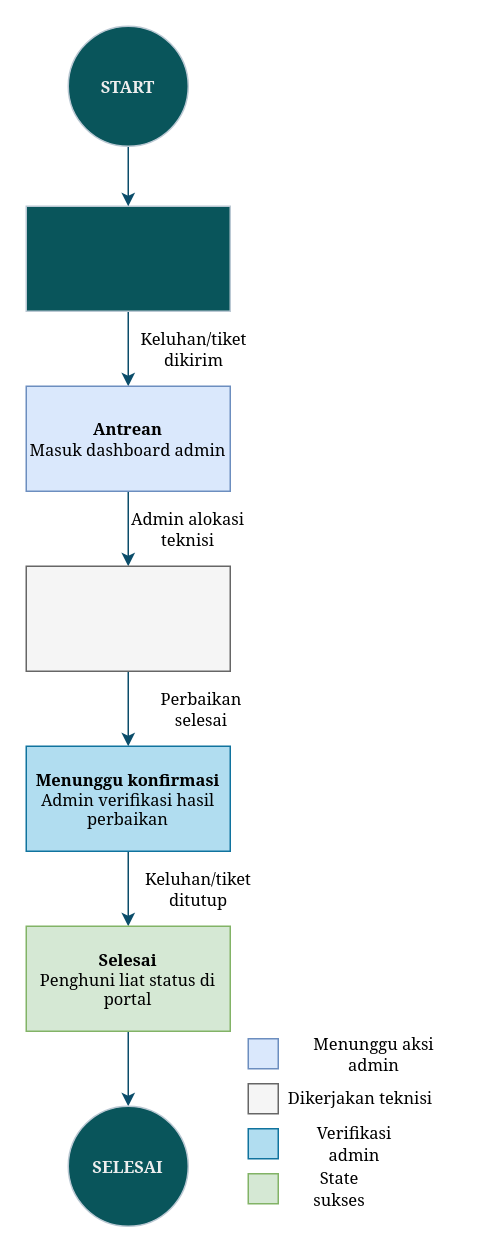
Some shapes in this 489 by 1253 pixel diagram are drawn without their labels. The centre of each missing label's shape, as x and y in pixels:
"Diproses Teknisi mengerjakan perbaikan" belongs at pixel 127 618.
"Keluhan/tiket dibuat Penghuni isi kategori dan foto" belongs at pixel 127 258.
